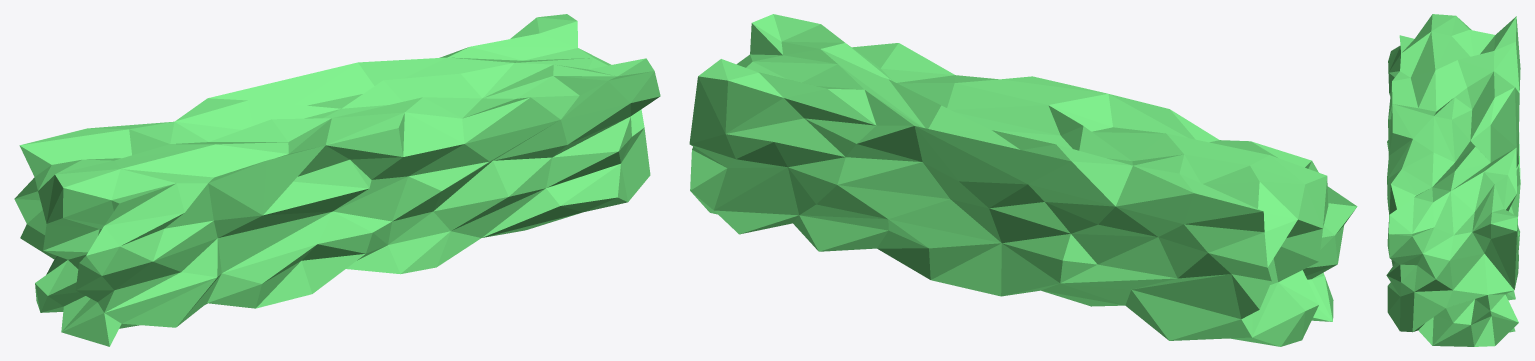
The model's file is buisson_04_lowpoly.fbx.
3 views of the same model, side by side, from view 1: azimuth 30°, elevation 25°; view 2: azimuth 150°, elevation 25°; view 3: azimuth 270°, elevation 25° (orthographic). The views are drawn at different scales.
Visible parts, largest first — view 1: Cube.008; view 2: Cube.008; view 3: Cube.008.
Boxes of the visible parts, x1,y1,x2,y2 form: Cube.008: [14, 14, 660, 346]; Cube.008: [689, 14, 1357, 346]; Cube.008: [1386, 14, 1520, 346].
Bounding box in the file's own units: 9.24 × 2.3 × 2.31.
